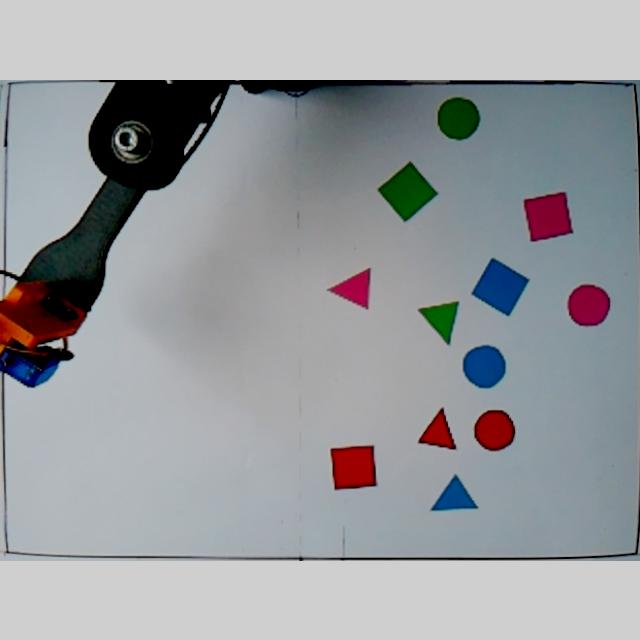blueCircle: (460, 342, 508, 390)
blueSquare: (470, 256, 530, 316)
blueTriangle: (428, 472, 479, 512)
greenCircle: (436, 92, 484, 140)
greenSquare: (376, 158, 440, 224)
greenTriangle: (416, 296, 462, 346)
pinkCircle: (567, 282, 611, 326)
pinkSquare: (522, 188, 576, 242)
pinkTriangle: (326, 264, 374, 312)
redCircle: (470, 406, 518, 452)
redSquare: (327, 441, 379, 491)
redTriangle: (414, 407, 460, 451)
